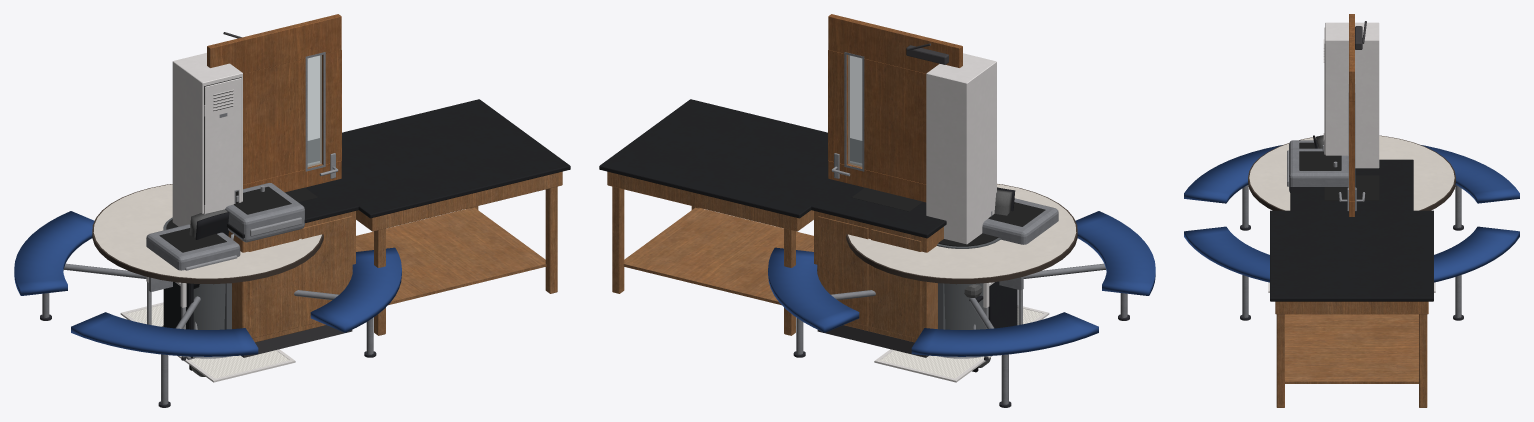
The model's file is props.glb.
The picture shows the model from 3 angles, left to right: view 1: azimuth 30°, elevation 25°; view 2: azimuth 150°, elevation 25°; view 3: azimuth 270°, elevation 25°; orthographic projection. The views are drawn at different scales.
Parts seen in each view (by area): view 1: labStation, roundTable, doorWood, locker, fountain, troffer, seat, trashcan, doorSteel; view 2: labStation, roundTable, doorWood, locker, fountain, trashcan, troffer, seat, doorSteel; view 3: labStation, roundTable, locker, fountain, doorWood.
Boxes of the visible parts, bbox=[...] form: labStation: bbox=[227, 99, 570, 357]; roundTable: bbox=[14, 184, 401, 407]; doorWood: bbox=[207, 14, 341, 192]; locker: bbox=[172, 53, 242, 226]; fountain: bbox=[146, 183, 304, 291]; troffer: bbox=[120, 302, 295, 382]; seat: bbox=[163, 209, 229, 359]; trashcan: bbox=[163, 217, 231, 329]; doorSteel: bbox=[308, 55, 321, 166]; labStation: bbox=[599, 99, 946, 357]; roundTable: bbox=[768, 184, 1155, 407]; doorWood: bbox=[828, 14, 962, 202]; locker: bbox=[926, 53, 996, 244]; fountain: bbox=[982, 198, 1058, 290]; trashcan: bbox=[937, 233, 1000, 329]; troffer: bbox=[874, 305, 1049, 382]; seat: bbox=[964, 187, 1017, 328]; doorSteel: bbox=[848, 55, 861, 166]; labStation: bbox=[1270, 159, 1433, 407]; roundTable: bbox=[1184, 135, 1519, 320]; locker: bbox=[1322, 22, 1379, 168]; fountain: bbox=[1287, 140, 1348, 192]; doorWood: bbox=[1338, 14, 1366, 216].
Size of the model in its own units: 3.63 by 2.34 by 2.45.
59 materials, 52 textured.
